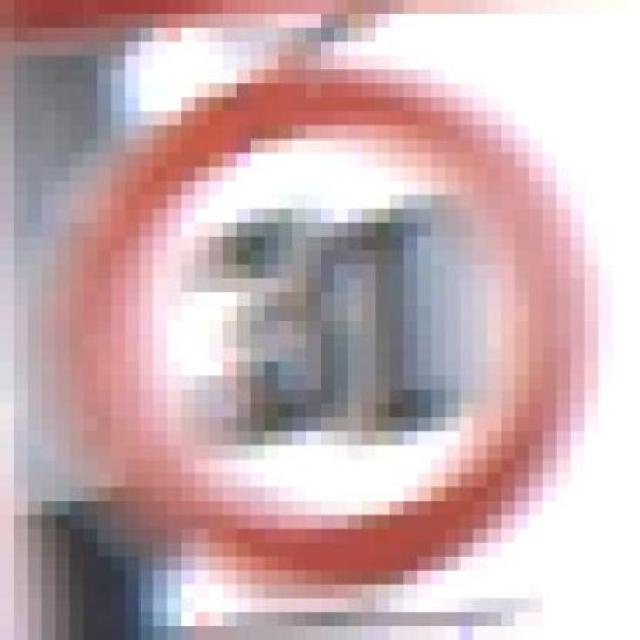forb_speed_over_30: (91, 62, 569, 576)
